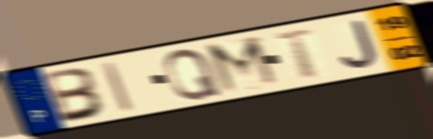B: (42, 66, 109, 125)
I: (100, 59, 137, 114)
J: (337, 17, 381, 70)
M: (202, 34, 285, 97)
Q: (162, 47, 224, 102)
T: (272, 27, 323, 81)
